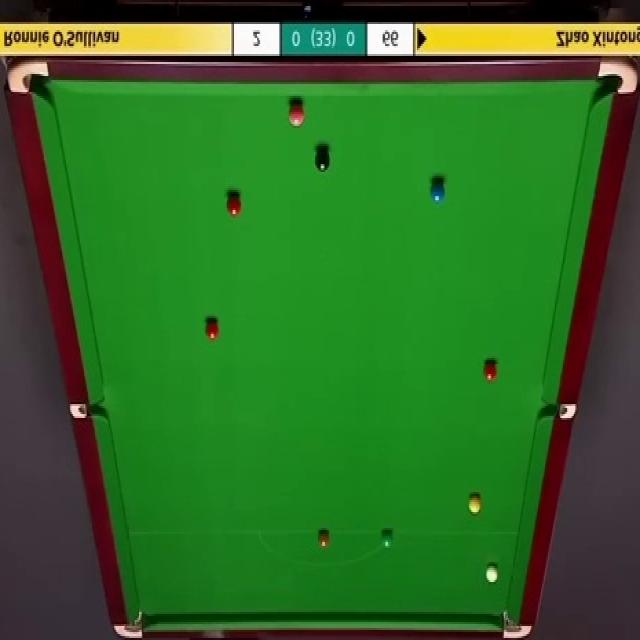pocket: (597, 56, 640, 98), (7, 60, 49, 95), (116, 604, 150, 638), (499, 608, 530, 640), (539, 400, 576, 422), (67, 405, 105, 420)
